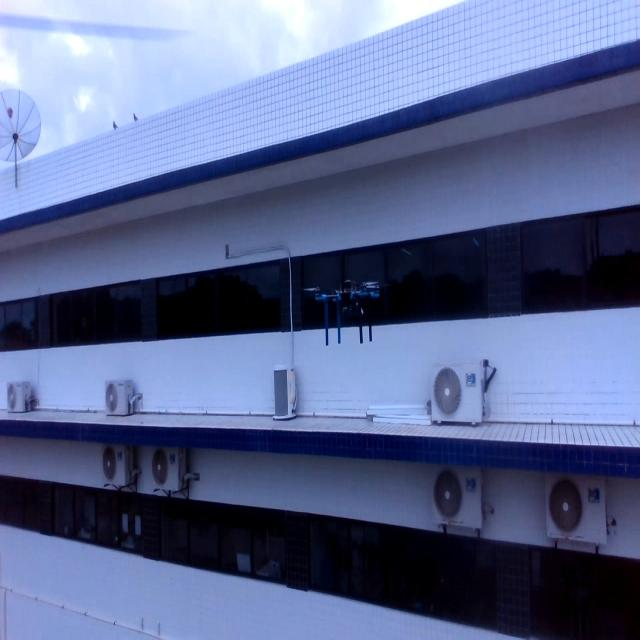-uav-: (303, 280, 386, 351)
